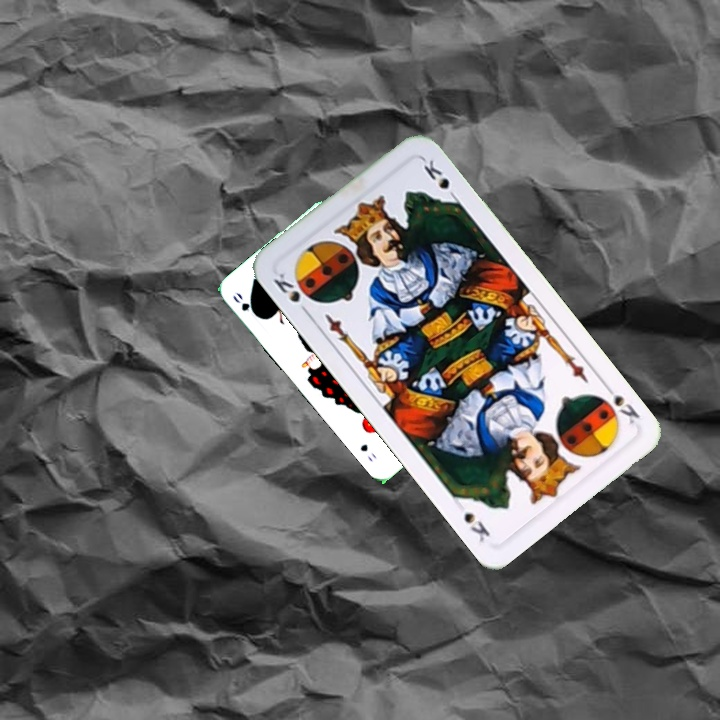GO: (229, 288, 262, 321)
SK: (269, 268, 313, 319), (599, 379, 643, 427)
